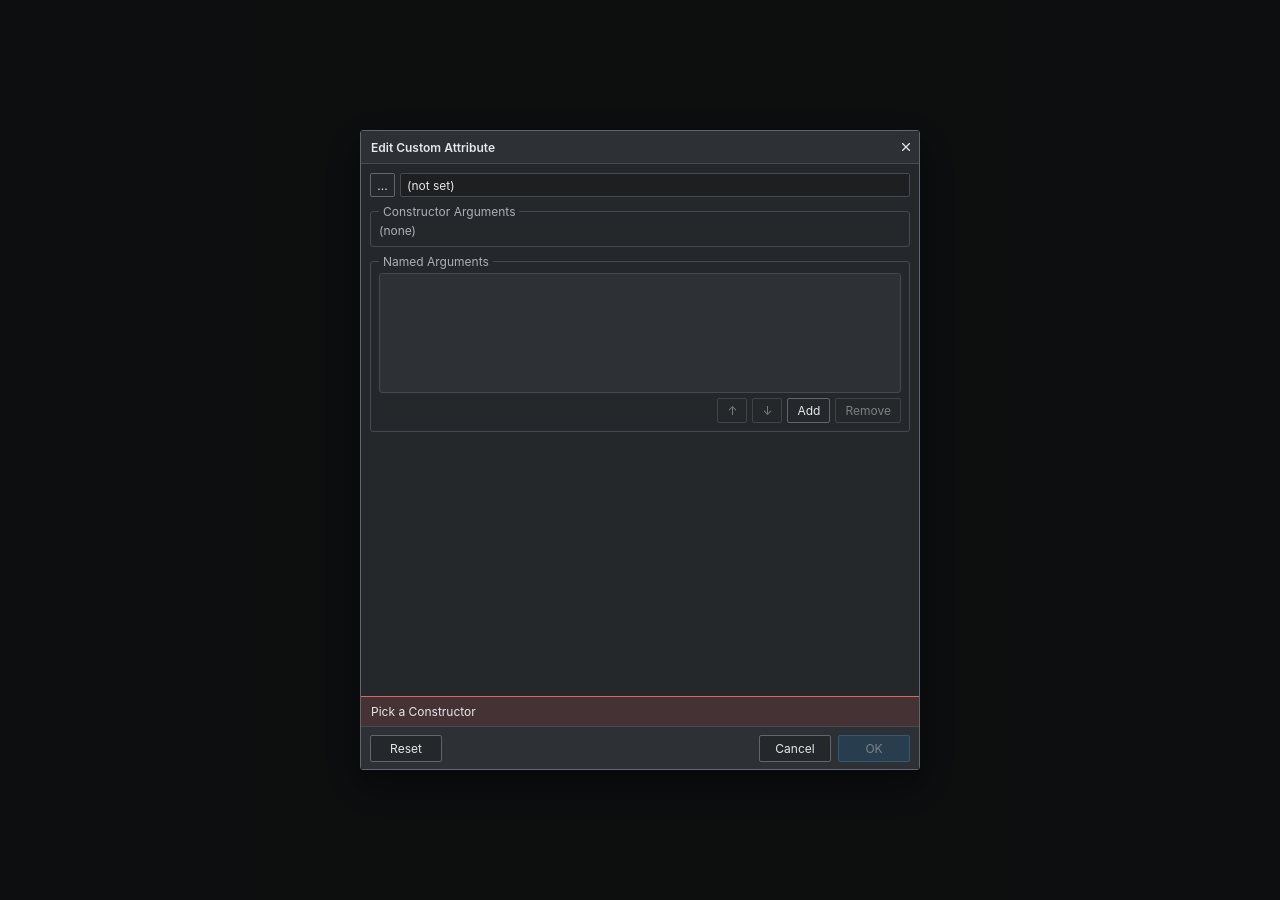
CustomAttributeDialog › offers only instance constructors to pick
Click the button named "Pick a Constructor" at (382, 185), box [370,173,395,197]
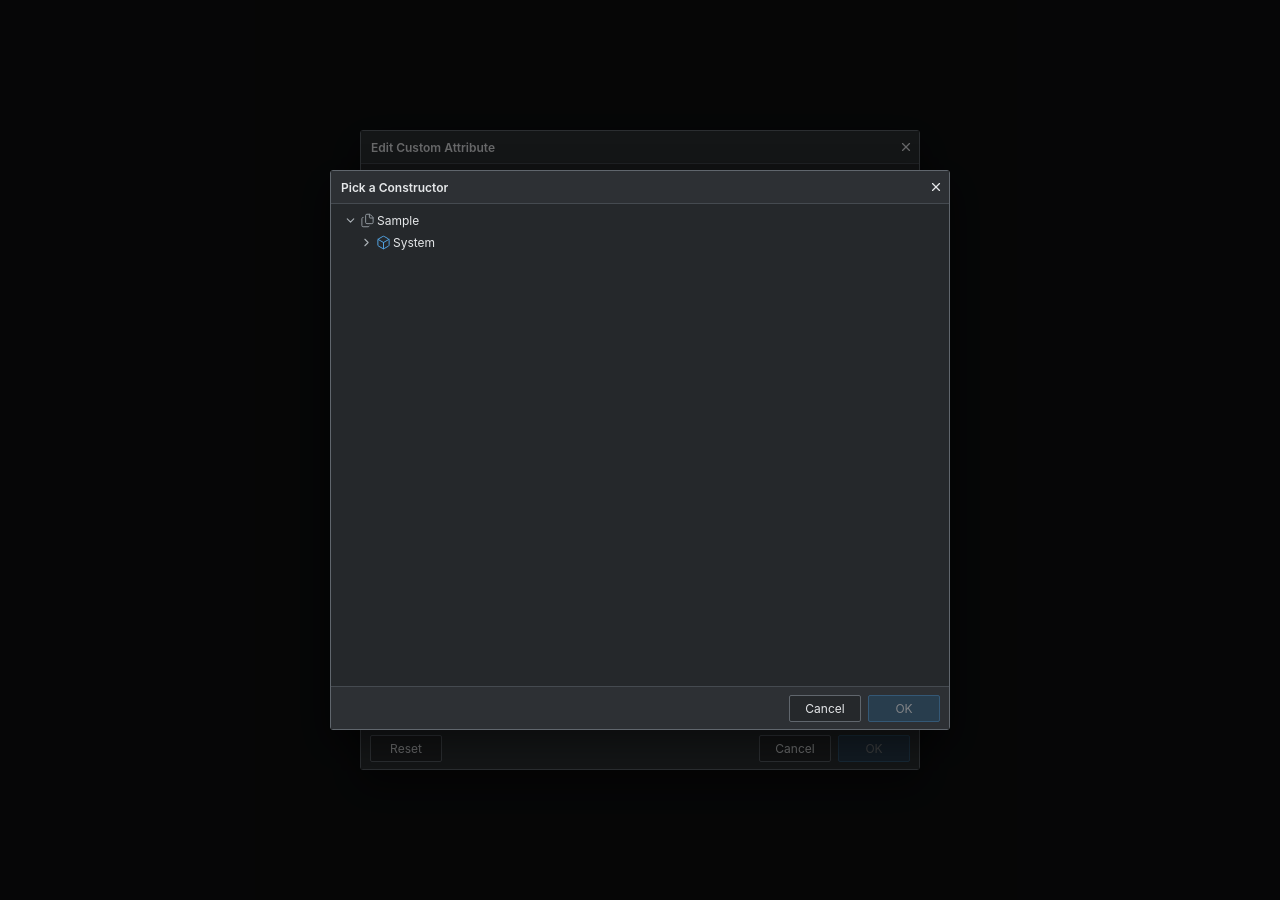
Expected: the text "Sample" is shown, [377,212,419,228]
Click the button named "Expand" at (366, 242), box [358,233,374,251]
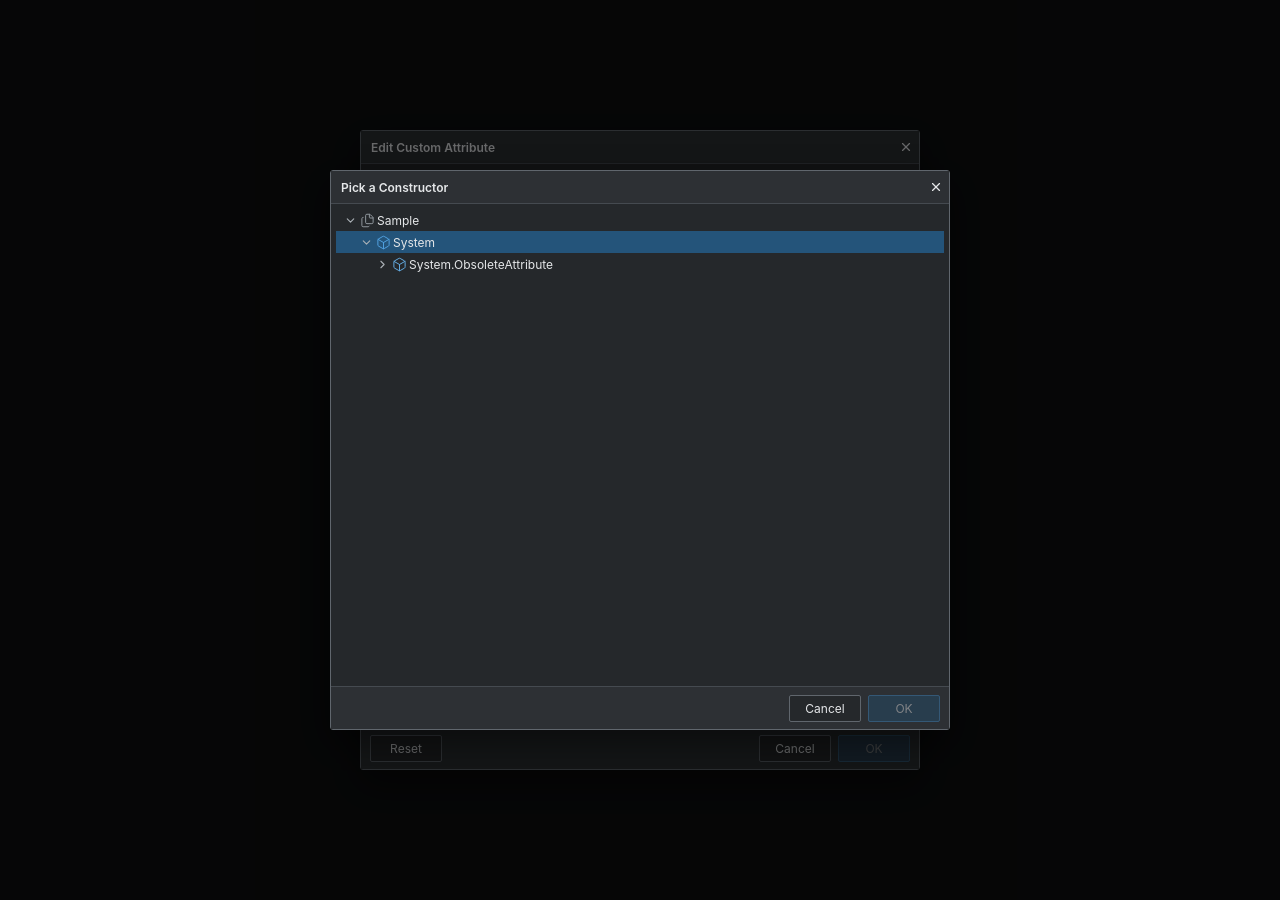
Expected: the text "System.ObsoleteAttribute" is shown, [409,256,553,272]
Click the button named "Expand" at (382, 264), box [374,255,390,273]
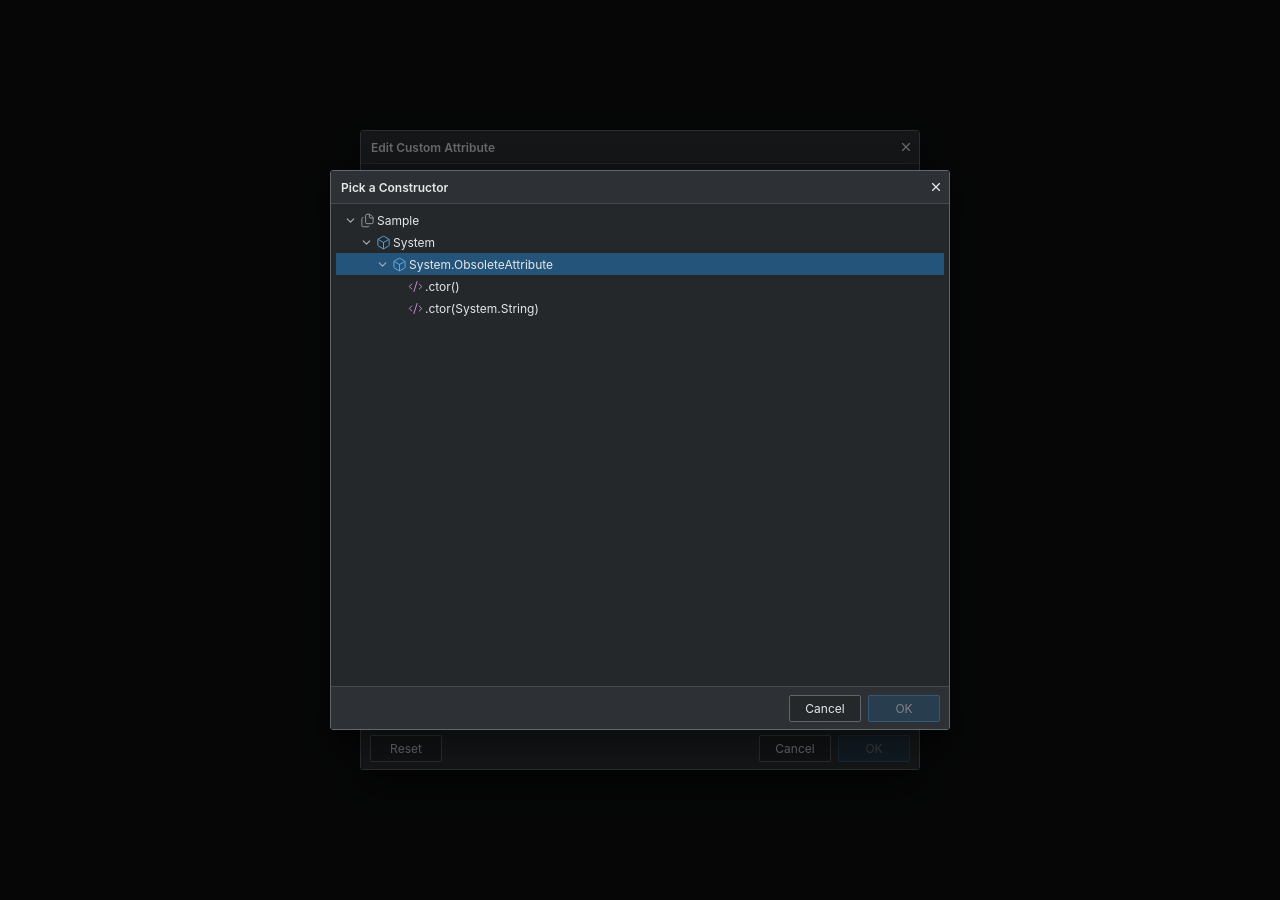
Expected: the text ".ctor()" is shown, [425,278,460,294]
